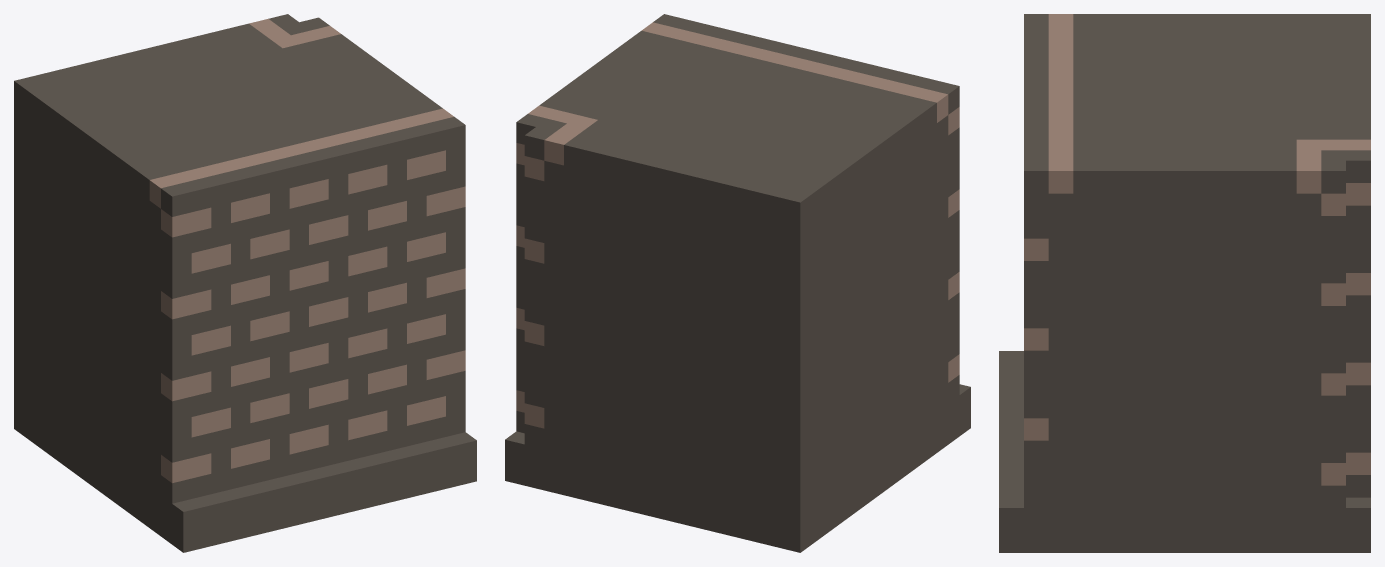
File: dungeon_a_a_outer_wall_segment_c_flipped.obj
The picture shows the model from 3 angles, left to right: view 1: azimuth 30°, elevation 25°; view 2: azimuth 150°, elevation 25°; view 3: azimuth 270°, elevation 25°; orthographic projection. The views are drawn at different scales.
Bounding box in the file's own units: 1.5 × 1.7 × 1.5.
Materials: 1 (1 with a texture image).
